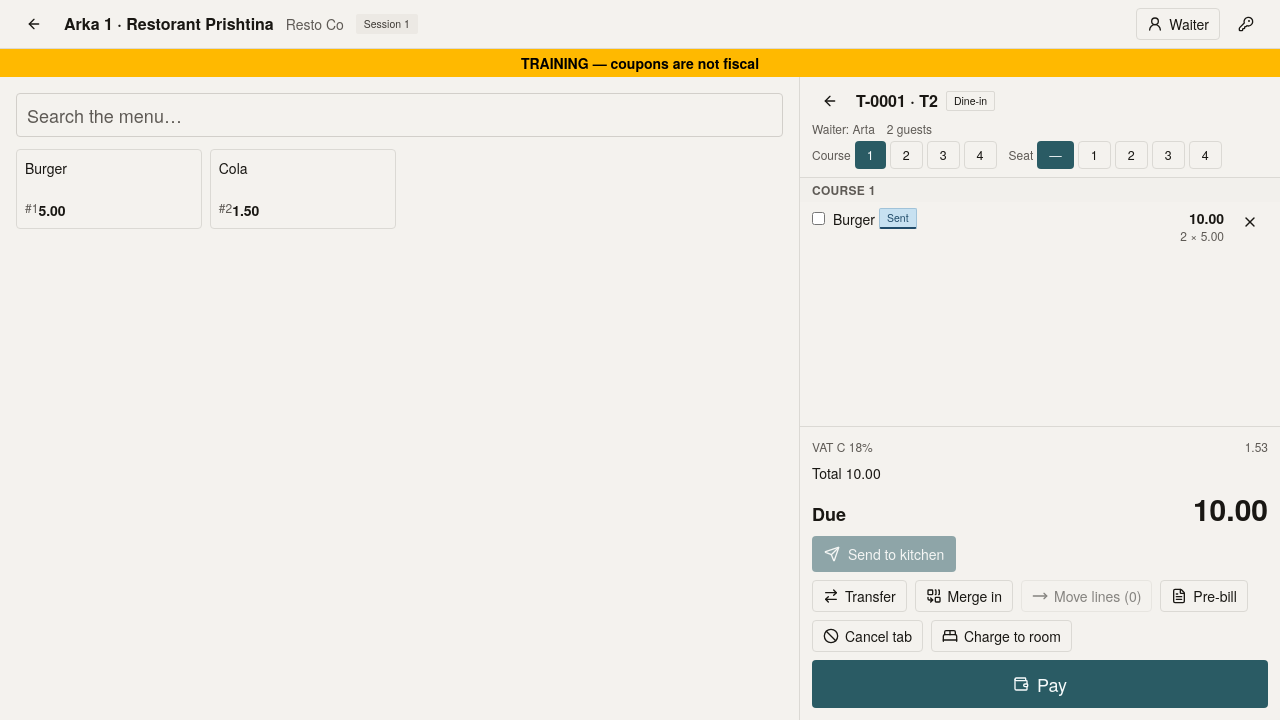
Test: Till — restaurant (P3) › shows the whole bill's VAT per letter on the pre-bill (billTaxes)
Click the button "Pre-bill".
click(1204, 596)  # box [1160,580,1248,612]
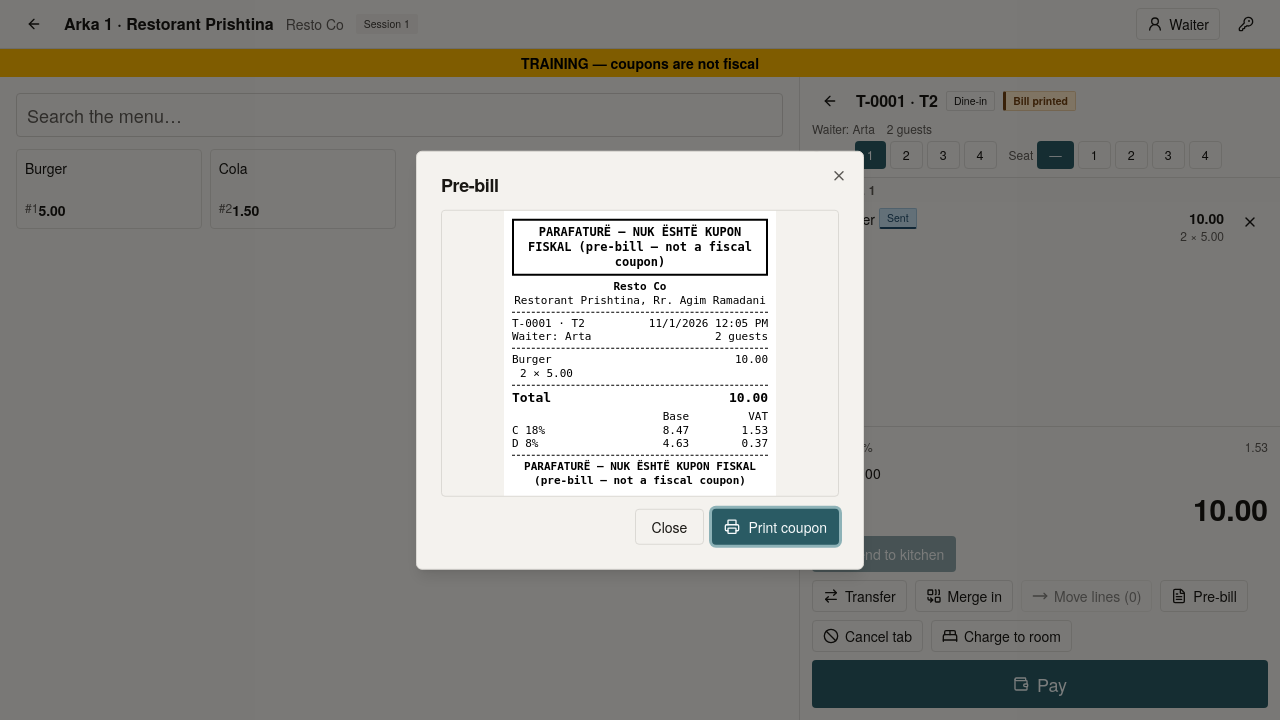
Check: the table with test id "prebill-taxes" shows "8.47", box [663,423,689,436]
Check: the table with test id "prebill-taxes" shows "1.53", box [742,423,768,436]
Check: the table with test id "prebill-taxes" shows "4.63", box [663,437,689,450]
